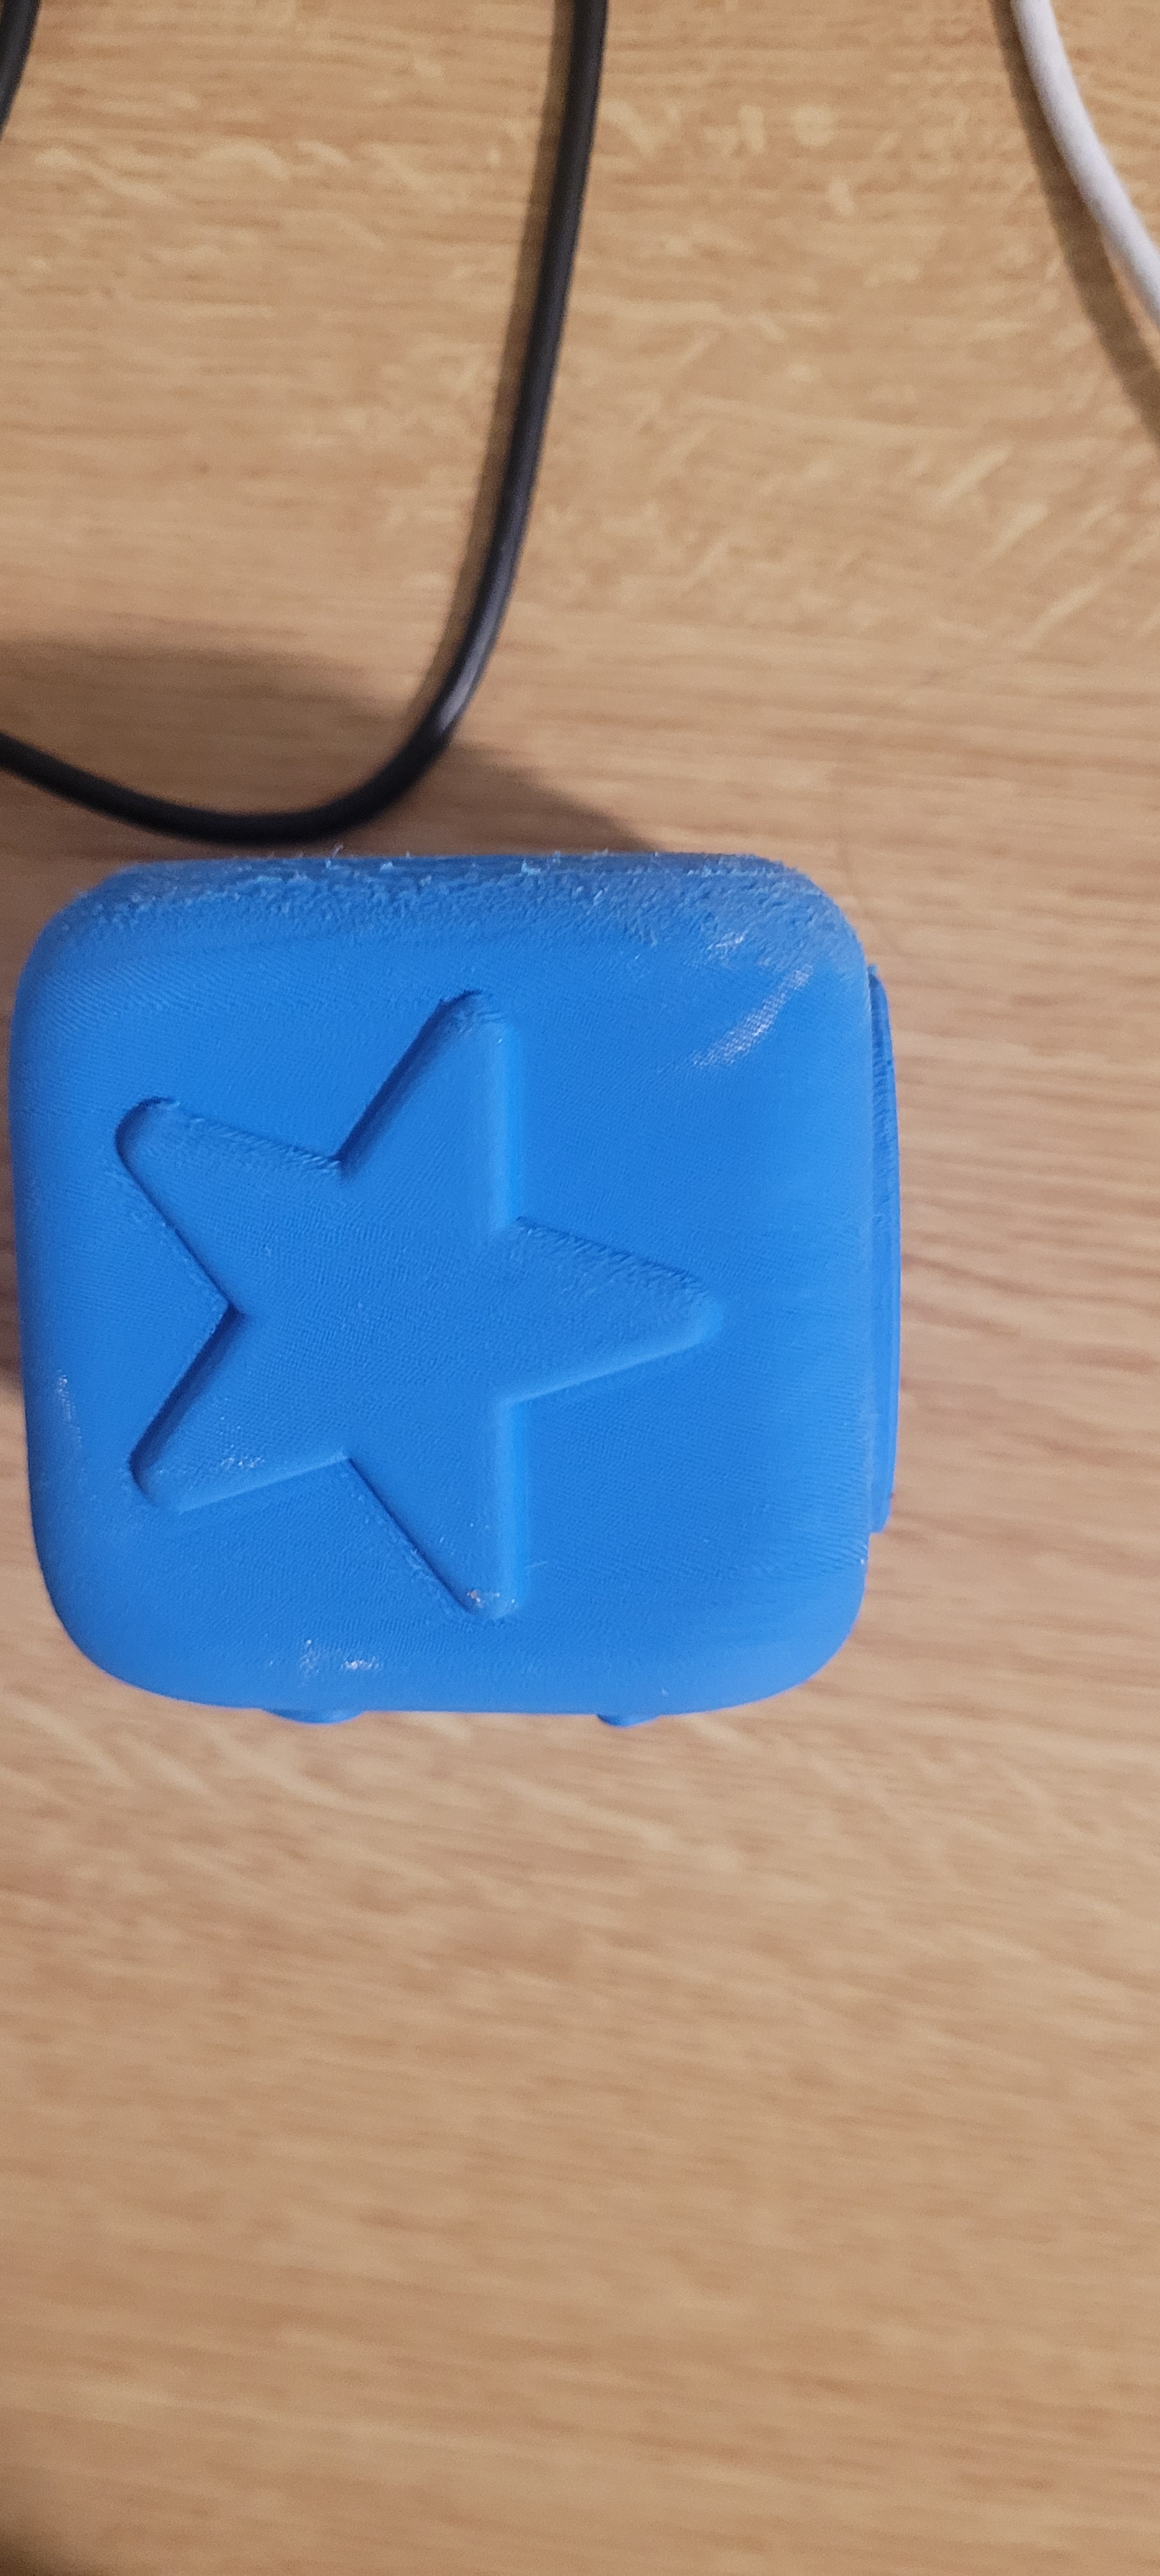Star: (56, 963, 734, 1569)
